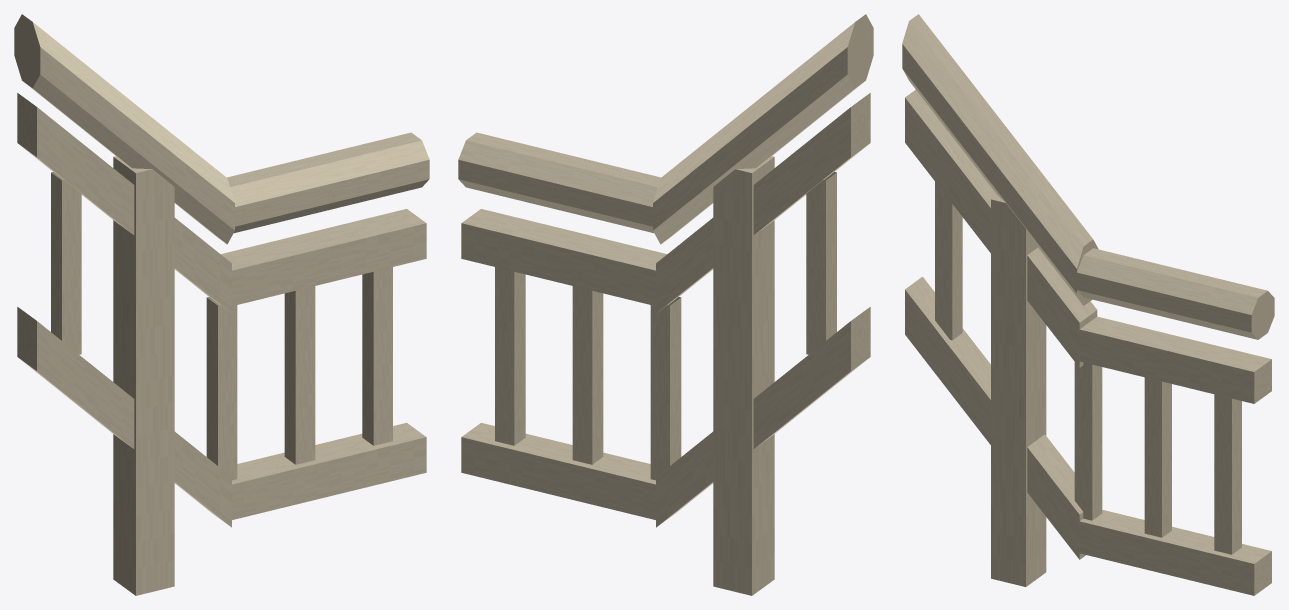
File: foot_neg.obj
3 renders of one model, left to right at view 1: azimuth 30°, elevation 25°; view 2: azimuth 150°, elevation 25°; view 3: azimuth 330°, elevation 25°, orthographic. The views are drawn at different scales.
Visible parts, largest first — view 1: railing_picket_round_beige_foot_neg; view 2: railing_picket_round_beige_foot_neg; view 3: railing_picket_round_beige_foot_neg.
Boxes of the visible parts, box(x1,y1,x2,y2) form: railing_picket_round_beige_foot_neg: box(14, 14, 429, 595); railing_picket_round_beige_foot_neg: box(458, 14, 873, 595); railing_picket_round_beige_foot_neg: box(902, 14, 1274, 595).
Size of the model in its own units: 1 by 1.46 by 0.1155.
